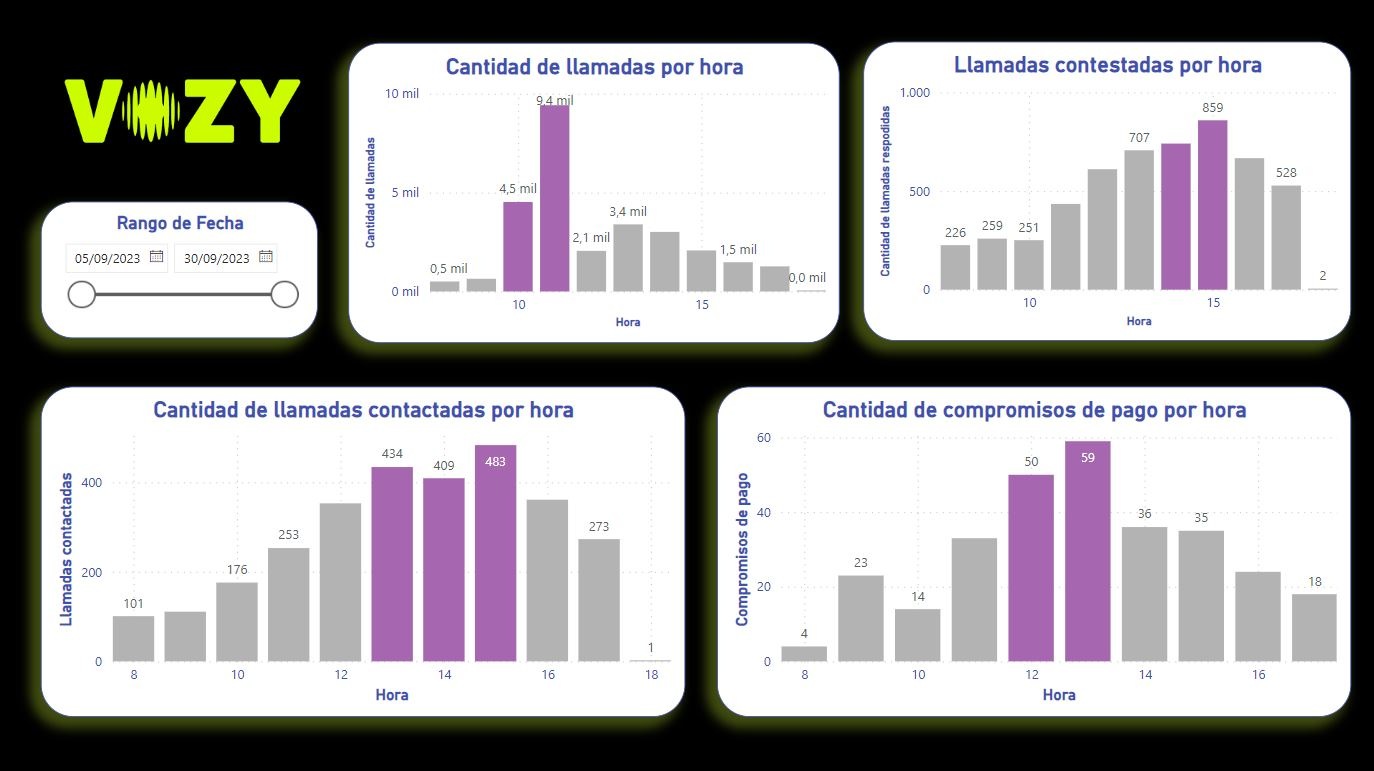

This screenshot's page, from the dashboard's own definition file:
{"tool":"powerbi","page":{"name":"5","canvas":[1280,720],"ordinal":0},"visuals":[{"type":"columnChart","title":"Cantidad de llamadas por hora","fields":{"Category":["df_powerbi.Hora"],"Y":["CountNonNull(df_powerbi.session_id)"]},"box":[326.3,40.2,457,278.8],"z":0},{"type":"slicer","title":"Rango de Fecha","fields":{"Values":["df_powerbi.date"]},"box":[41.1,187.8,257.8,127.5],"z":1000},{"type":"columnChart","title":"Llamadas contestadas por hora","fields":{"Category":["df_powerbi.Hora"],"Y":["CountNonNull(df_powerbi.Answered)"]},"box":[804.8,39.8,453.8,278.3],"z":2000},{"type":"columnChart","title":"Cantidad de compromisos de pago por hora","fields":{"Category":["df_powerbi.Hora"],"Y":["CountNonNull(df_powerbi.success_type)"]},"box":[669.1,360.6,589.5,307.1],"z":3000},{"type":"columnChart","title":"Cantidad de llamadas contactadas por hora","fields":{"Category":["df_powerbi.Hora"],"Y":["CountNonNull(df_powerbi.Contacted)"]},"box":[41.1,360.6,599.1,307.1],"z":4000},{"type":"image","box":[41.1,28.8,257.8,149.4],"z":5000}]}

Visuals, with their boxes in screenshot pixels (x1, y1, x2, y2), scaled from the page's 1280x720 canvas onto the 1374x771 screenshot:
"Cantidad de llamadas por hora" columnChart: left=350, top=43, right=841, bottom=342
"Rango de Fecha" slicer: left=44, top=201, right=321, bottom=338
"Llamadas contestadas por hora" columnChart: left=864, top=43, right=1351, bottom=341
"Cantidad de compromisos de pago por hora" columnChart: left=718, top=386, right=1351, bottom=715
"Cantidad de llamadas contactadas por hora" columnChart: left=44, top=386, right=687, bottom=715
image: left=44, top=31, right=321, bottom=191
